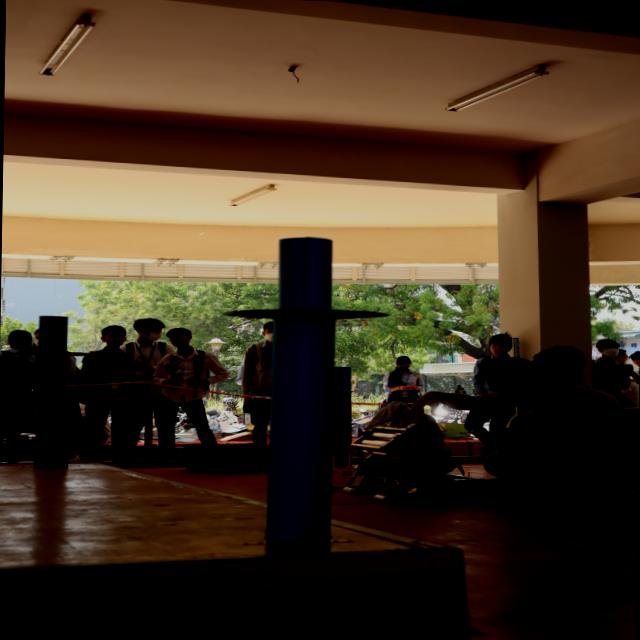pole: (218, 233, 388, 388), (17, 308, 95, 390)
